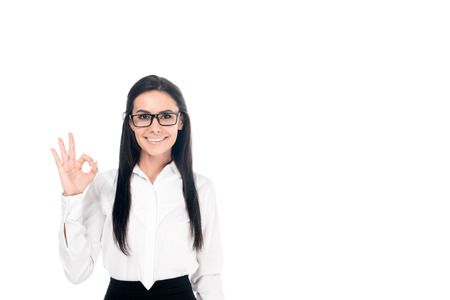F_shirt: (62, 160, 223, 299)
